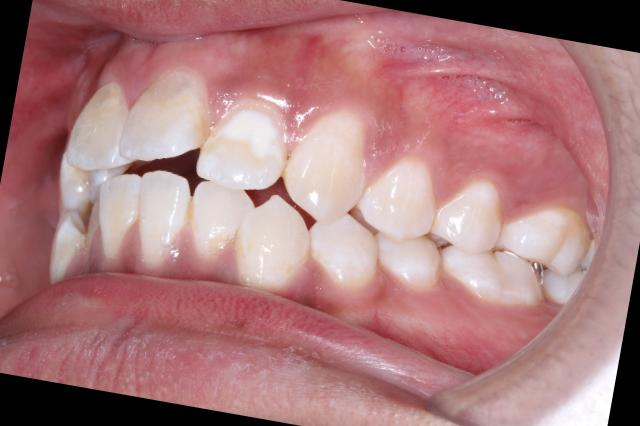canine class III 1/4: (226, 90, 409, 317)
molar class III 1/2: (432, 169, 598, 320)
